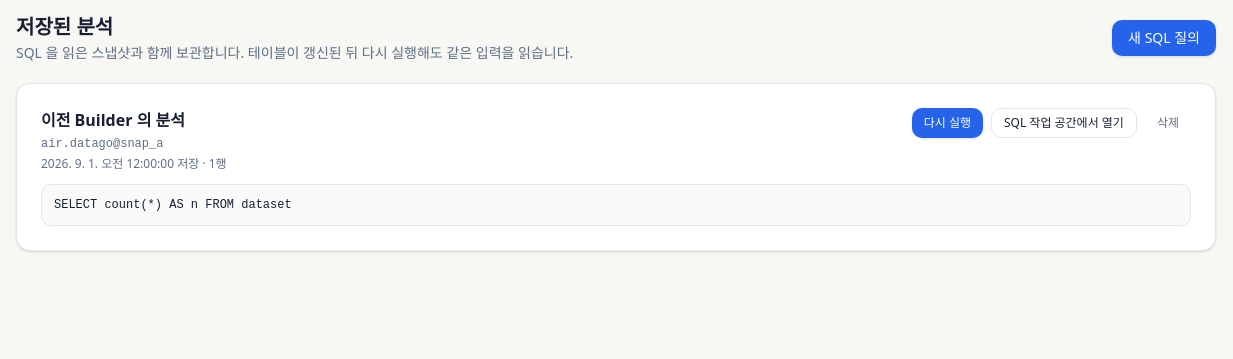
Test case: Saved Analyses after Builder's SQL changed (#565) › reads Builder's 409 as the same notice when a list was stale
This screenshot has width=1233, height=359.
Click the button "다시 실행". click: coordinates (947, 123)
box: top-left (912, 108), bottom-right (983, 138)
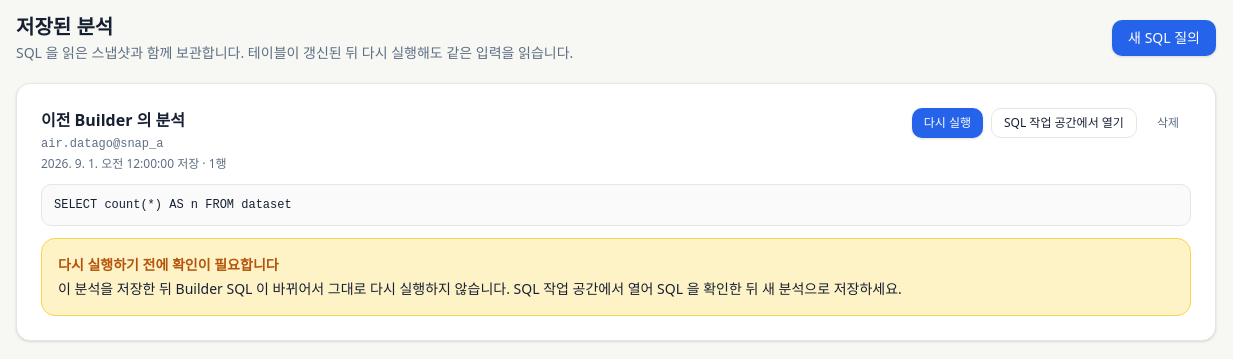
Check: the message shows "다시 실행하기 전에 확인이 필요합니다", box top-left (58, 255), bottom-right (279, 274)
